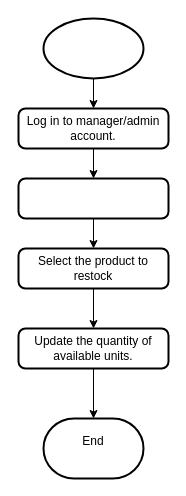
This 186x496 diagram has some shape labels left out. Here are the shapes that lost their labels. From the top down, the centre of each, then its label:
[93,48]: Start
[93,198]: Go to inventory management section
